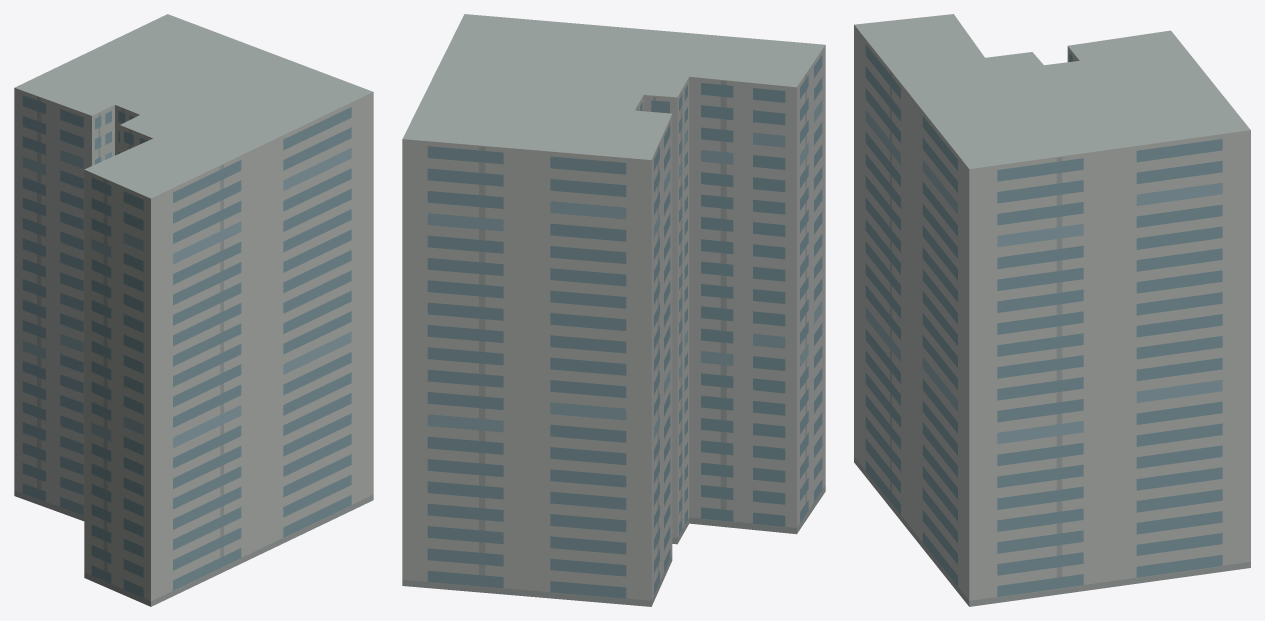
Rendered from survey-upis-32765543.glb.
3 renders of one model, left to right at view 1: azimuth 30°, elevation 25°; view 2: azimuth 150°, elevation 25°; view 3: azimuth 270°, elevation 25°, orthographic. The views are drawn at different scales.
Visible parts, largest first — view 1: survey-upis-32765543.tmp; view 2: survey-upis-32765543.tmp; view 3: survey-upis-32765543.tmp.
Boxes of the visible parts, x1=… form: survey-upis-32765543.tmp: x1=14, y1=14, x2=373, y2=606; survey-upis-32765543.tmp: x1=402, y1=14, x2=825, y2=606; survey-upis-32765543.tmp: x1=854, y1=14, x2=1250, y2=606.
Size of the model in its own units: 72.44 by 95.31 by 78.28.
